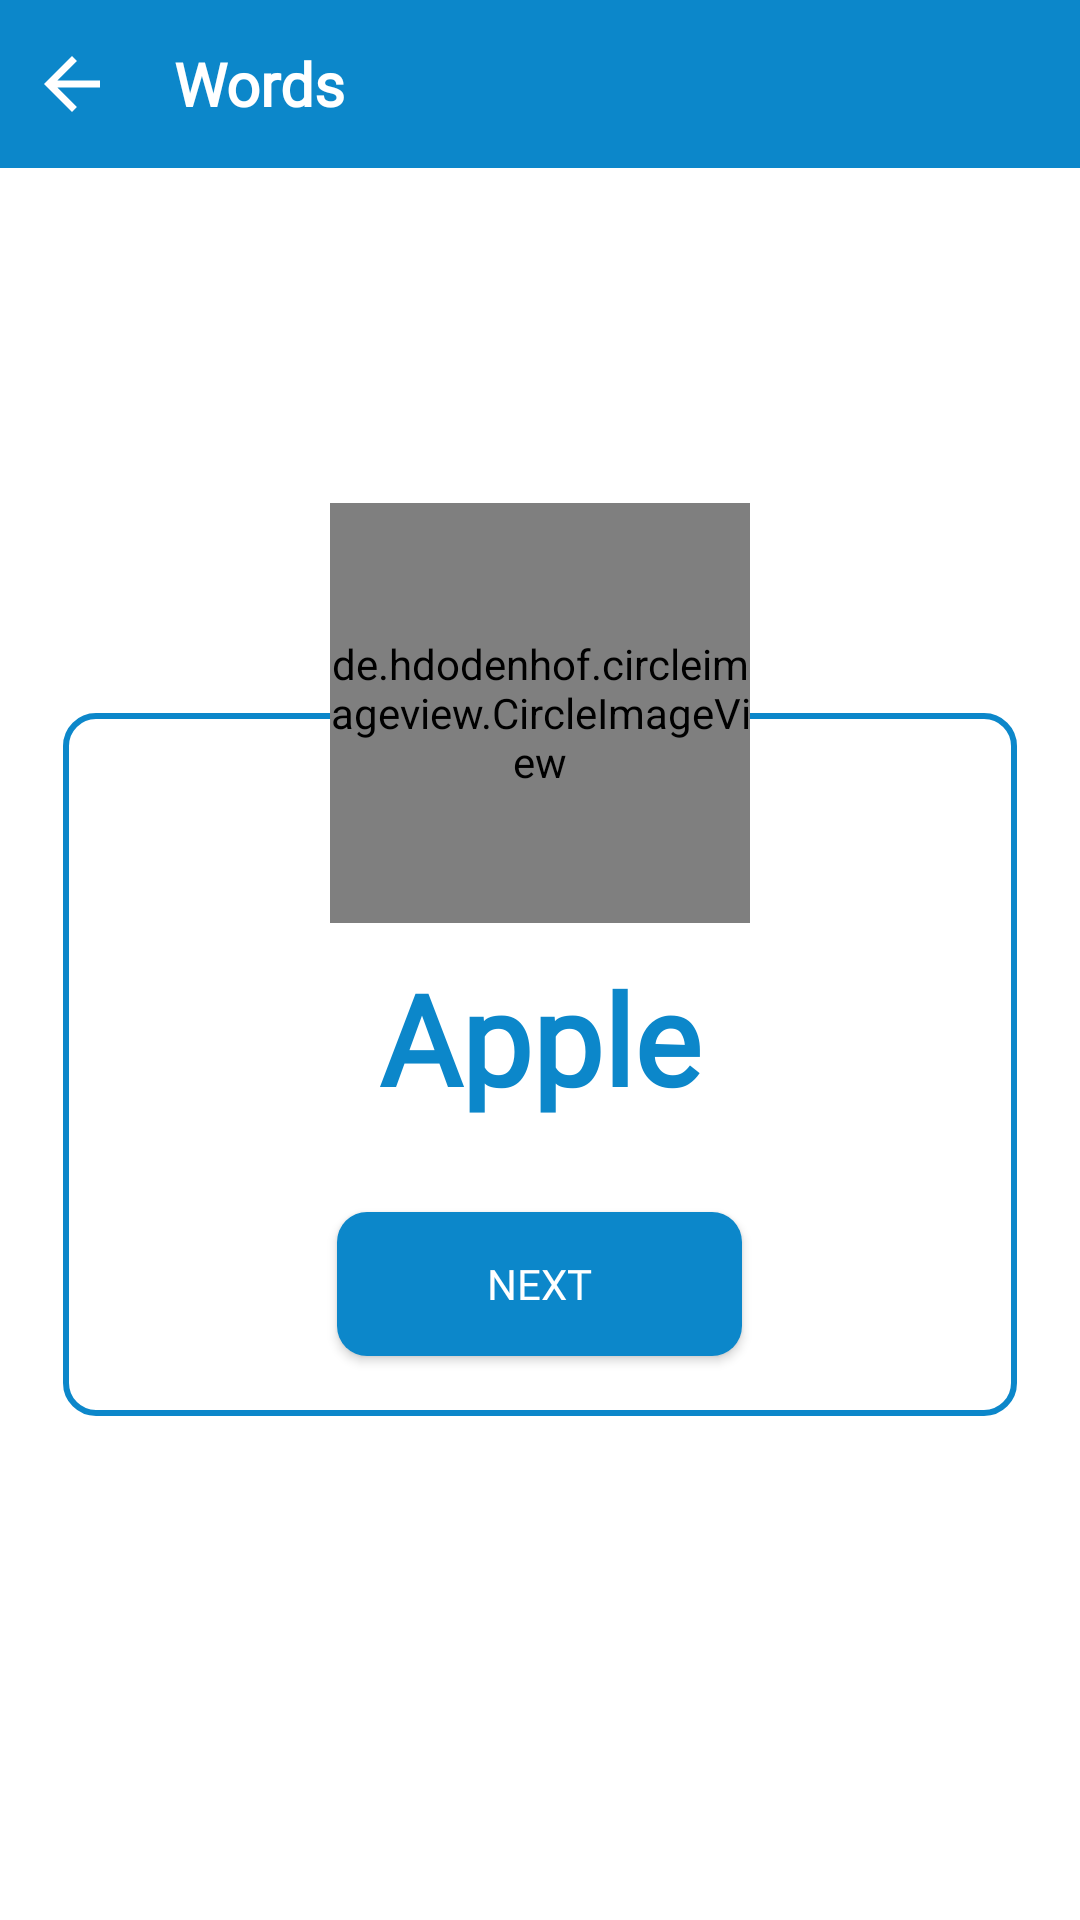

Where to tap for icons on this 1080px x 1920px app screen, as (x=x, y=y):
arrow back: (x=72, y=84)
